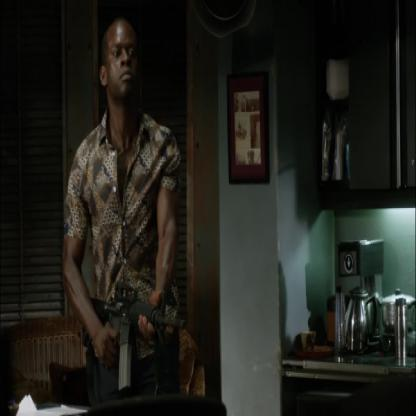Guns: (78, 280, 188, 392)
